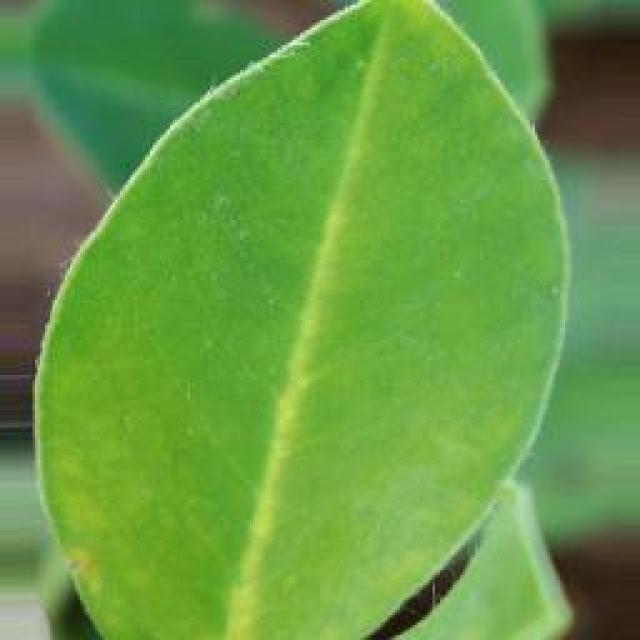Yellow_and_black_sigatoka: (28, 0, 572, 640)
